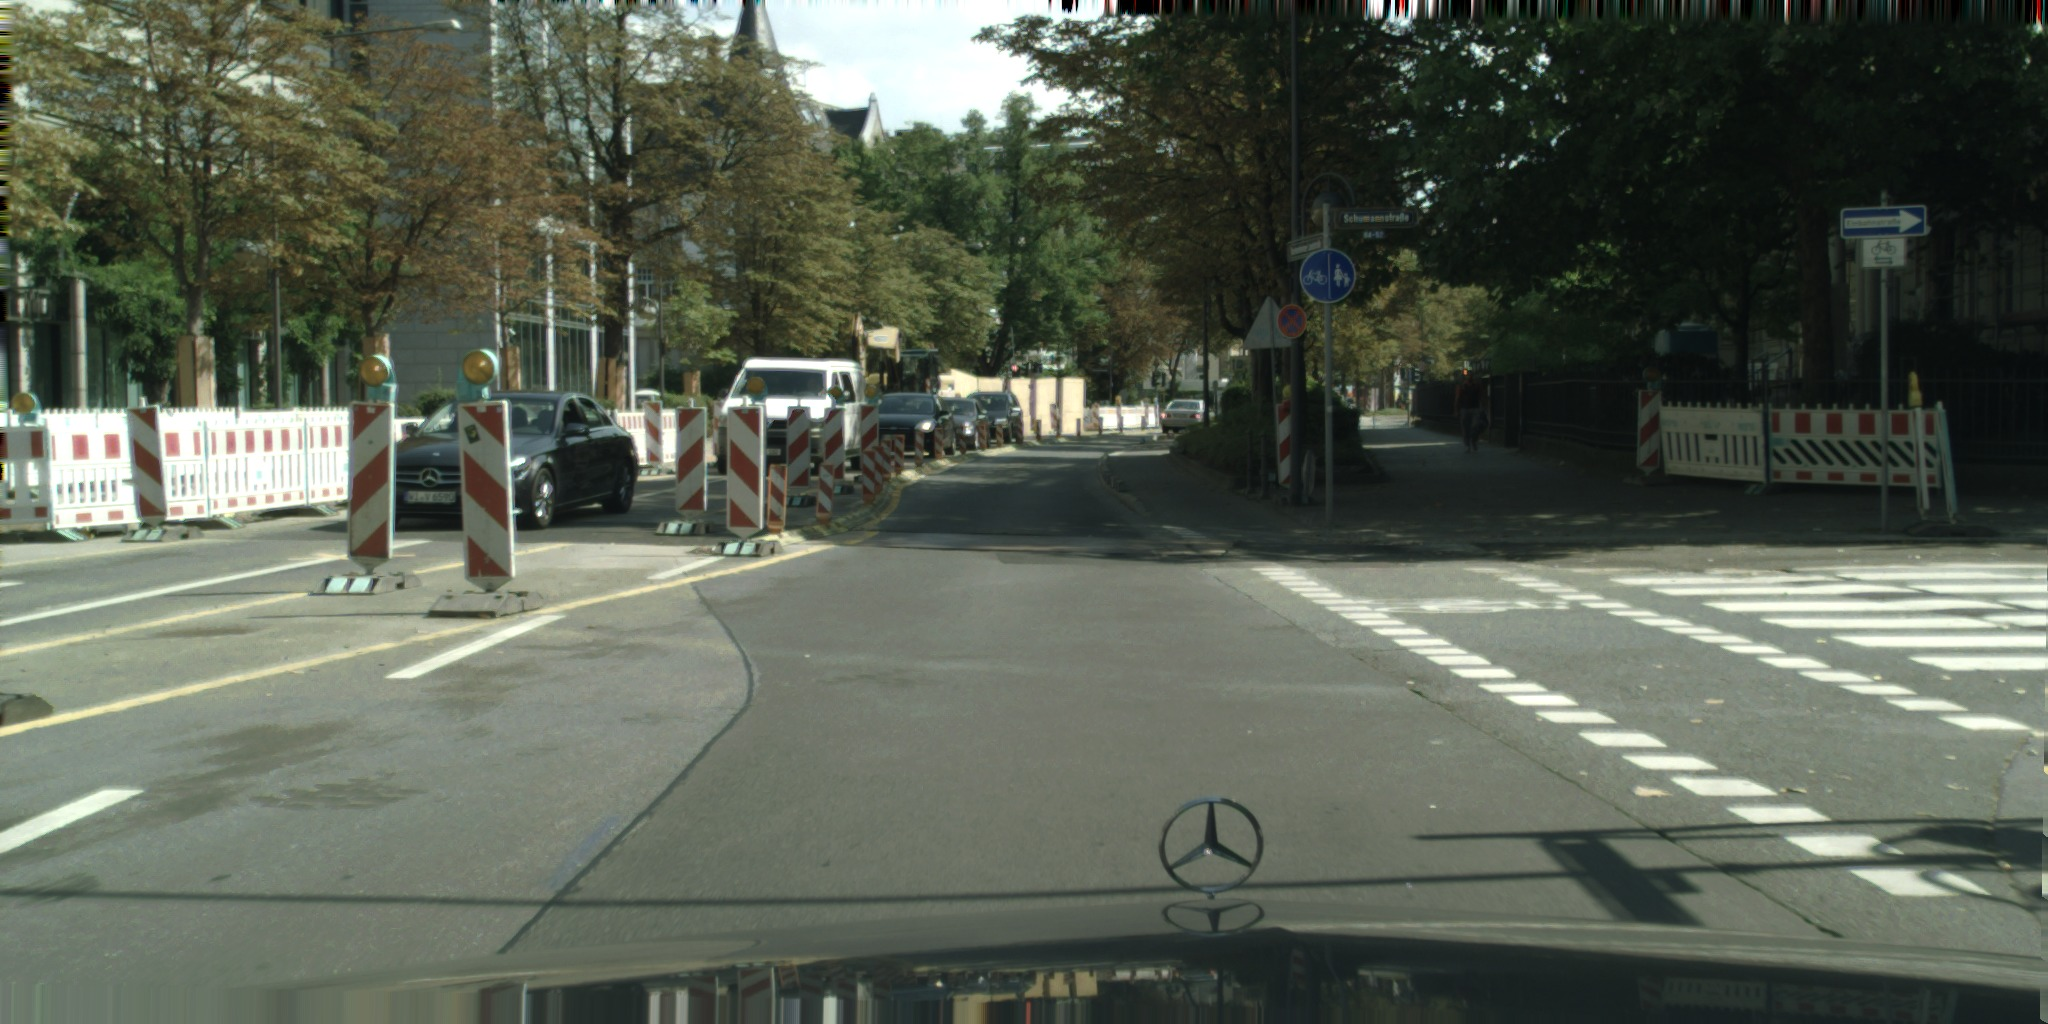car: (369, 389, 639, 531), (716, 355, 873, 480), (867, 391, 958, 461), (926, 397, 991, 450), (961, 390, 1025, 444), (1153, 398, 1206, 434)
person: (1452, 369, 1490, 455)
